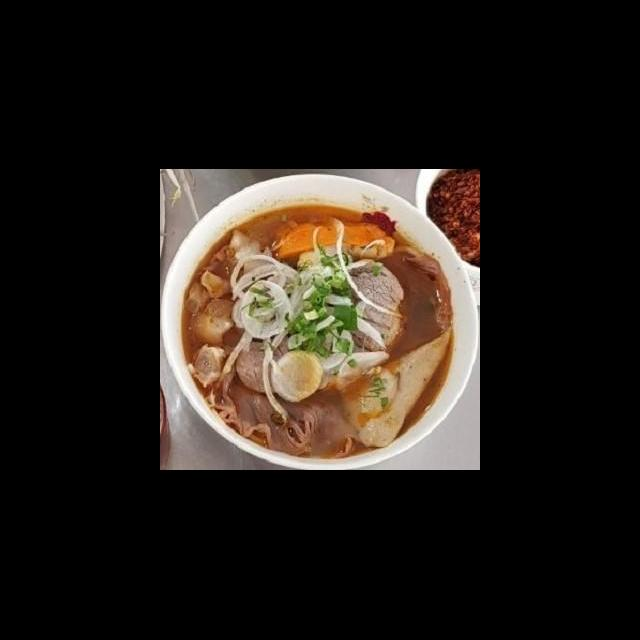thit bo: (231, 328, 389, 398), (341, 256, 407, 356)
